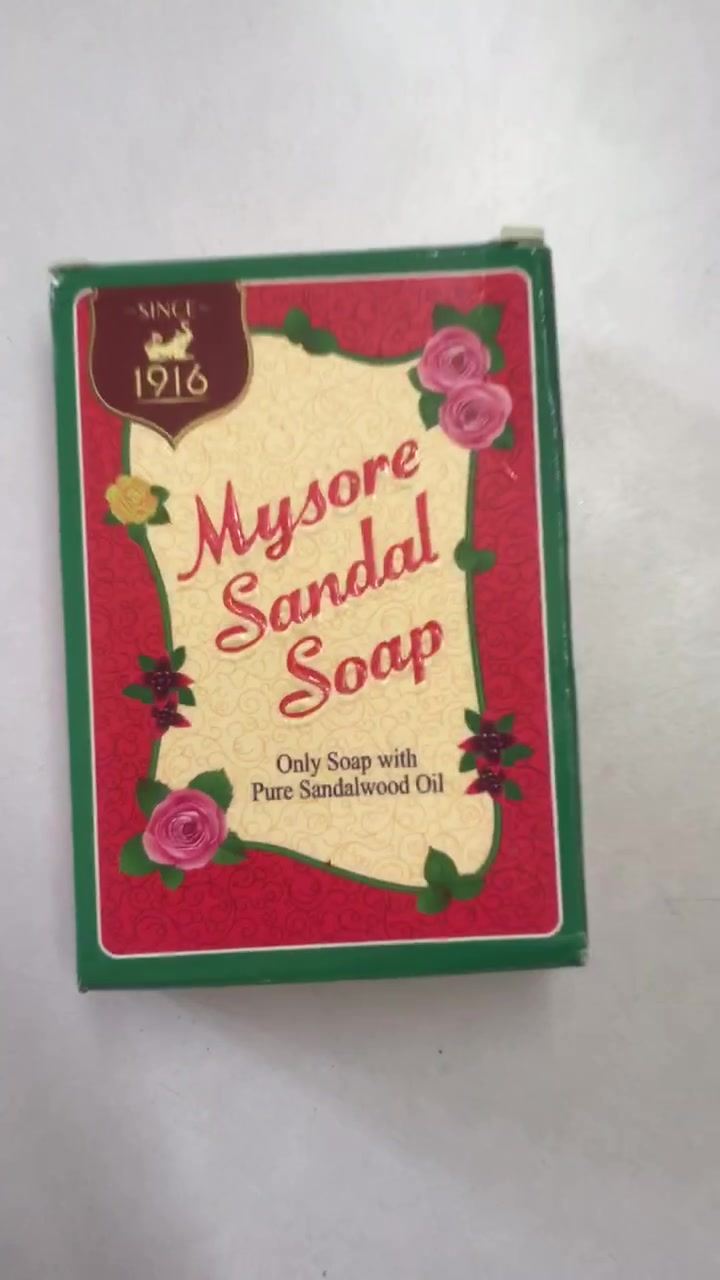mysore sandal soap: (58, 242, 585, 980)
